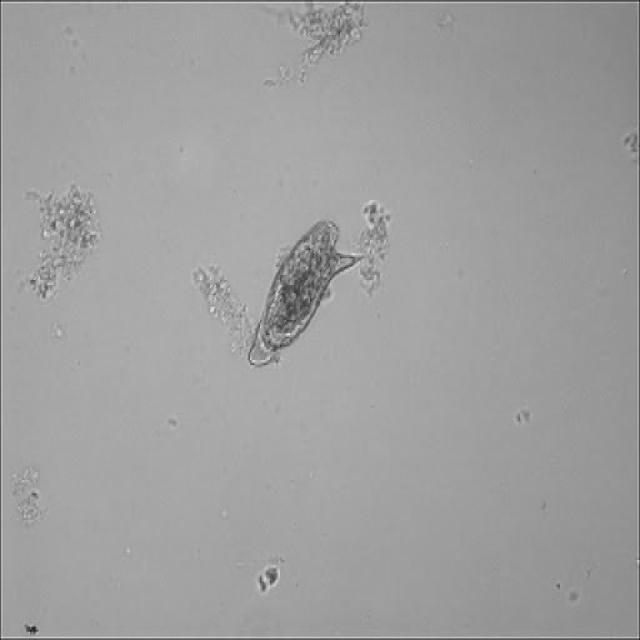Schistosoma: (242, 209, 367, 374)
